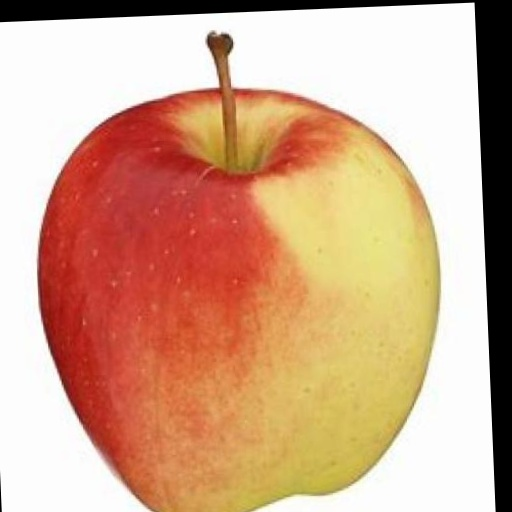fruit: (39, 35, 439, 512)
